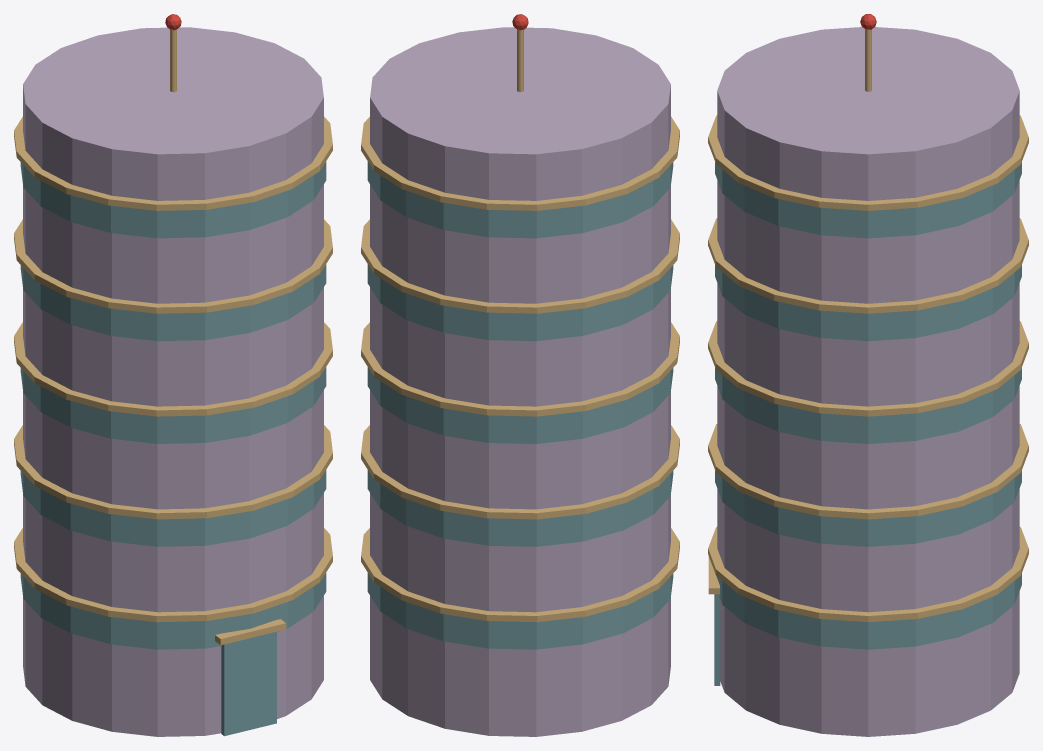
3 views of the same model, side by side, from view 1: azimuth 30°, elevation 25°; view 2: azimuth 150°, elevation 25°; view 3: azimuth 270°, elevation 25° (orthographic).
Parts seen in each view (by area): view 1: RC-010 Round ring apartment batched; view 2: RC-010 Round ring apartment batched; view 3: RC-010 Round ring apartment batched.
Part boxes in pixels (bbox=[...]): RC-010 Round ring apartment batched: bbox=[14, 14, 332, 736]; RC-010 Round ring apartment batched: bbox=[361, 14, 679, 736]; RC-010 Round ring apartment batched: bbox=[708, 14, 1028, 736].
Bounding box in the file's own units: 8.48 × 19.22 × 8.48.
